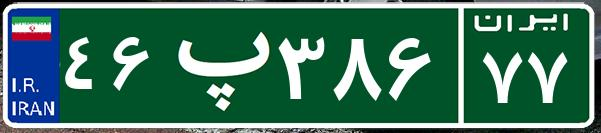3: (273, 28, 330, 110)
4: (57, 26, 110, 107)
6: (385, 28, 445, 110), (110, 28, 158, 105)
7: (475, 38, 525, 113), (525, 38, 570, 115)
8: (330, 28, 385, 110)
پ: (158, 15, 273, 115)
